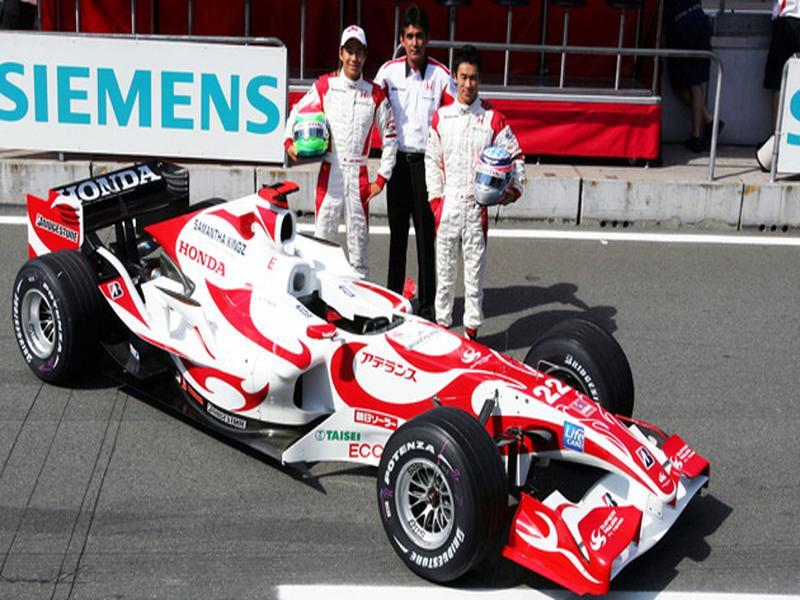f1: (6, 149, 738, 580)
